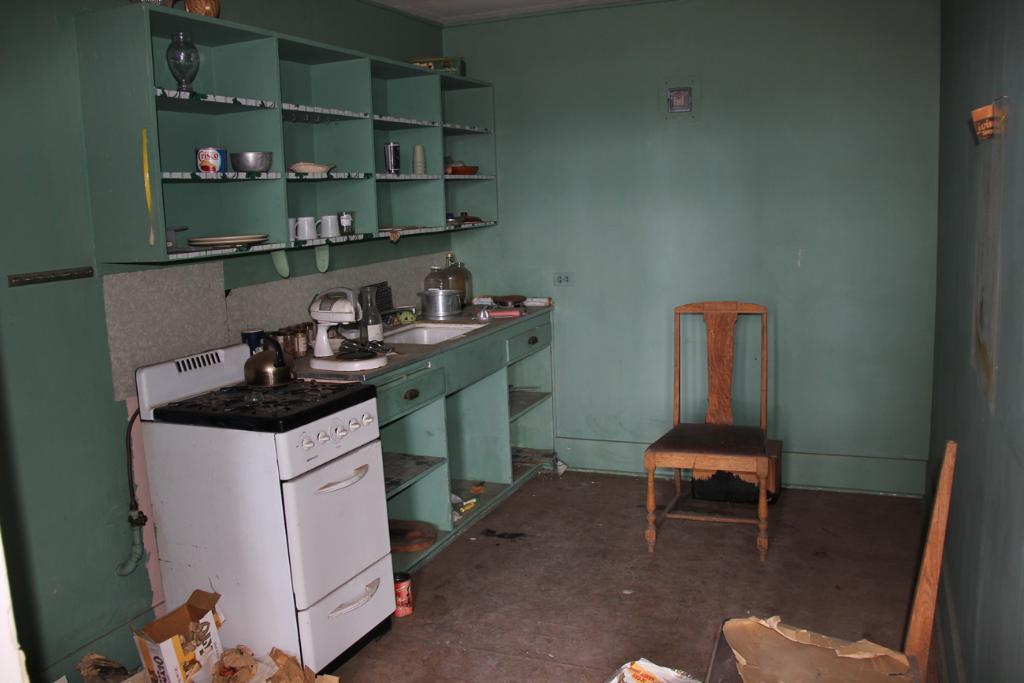cabinet door: (286, 482, 390, 557), (306, 570, 404, 639), (380, 383, 441, 403), (510, 330, 547, 353)
handle: (338, 590, 386, 612), (318, 476, 374, 485), (404, 382, 422, 402), (529, 334, 543, 350)
